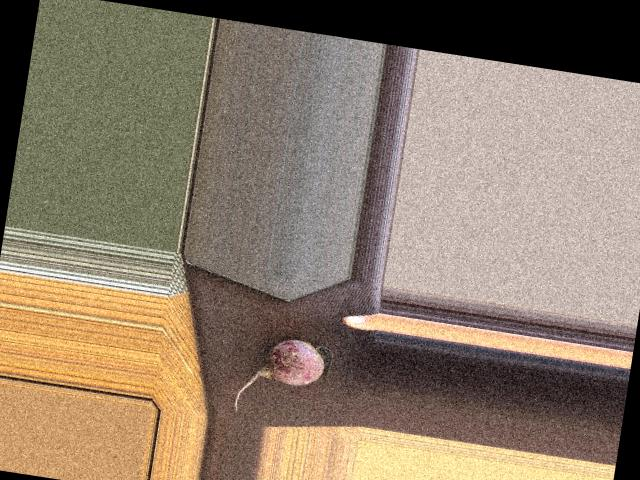beet: (233, 331, 342, 423)
